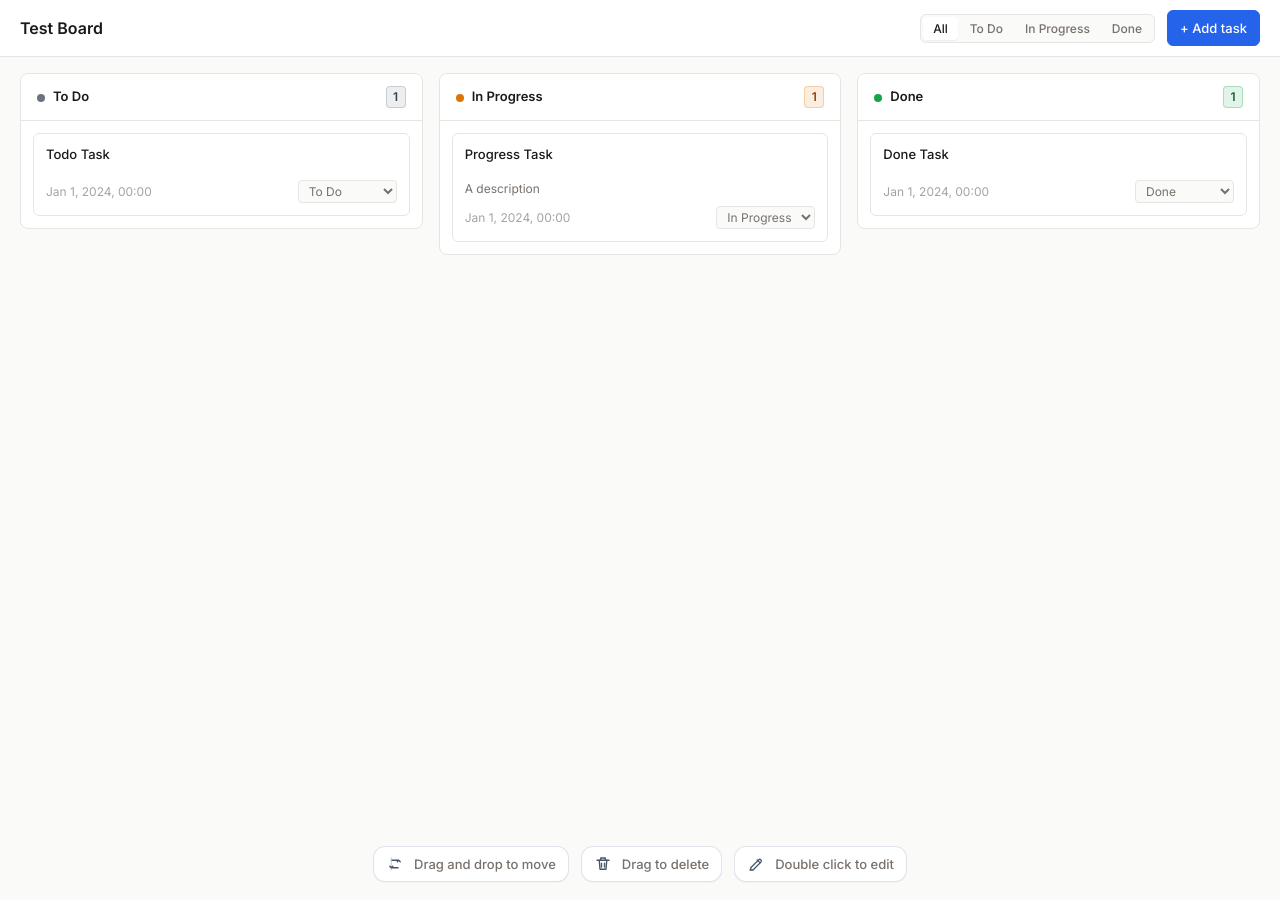
Scenario: TaskBoard › opens the edit dialog and populates task fields when a task is double-clicked
Step 1. Double-click the text "Todo Task" → {"x": 78, "y": 154}, box [46,146,110,162]
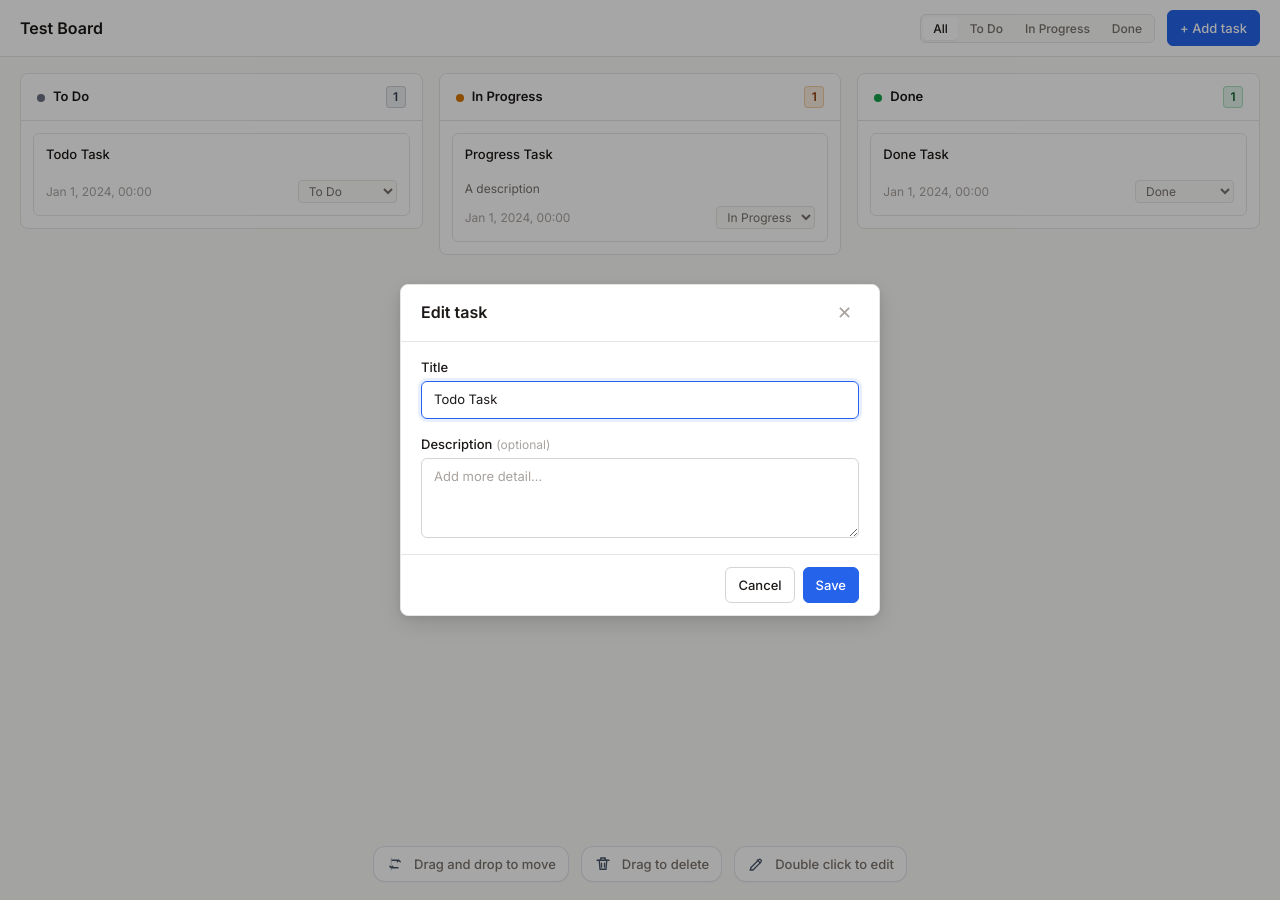
Now the dialog is shown, box [400,284,880,616]
Now the field labelled "Title" holds "Todo Task", box [421,381,859,419]
Now the text box labelled "Description(optional)" is empty, box [421,458,859,538]
